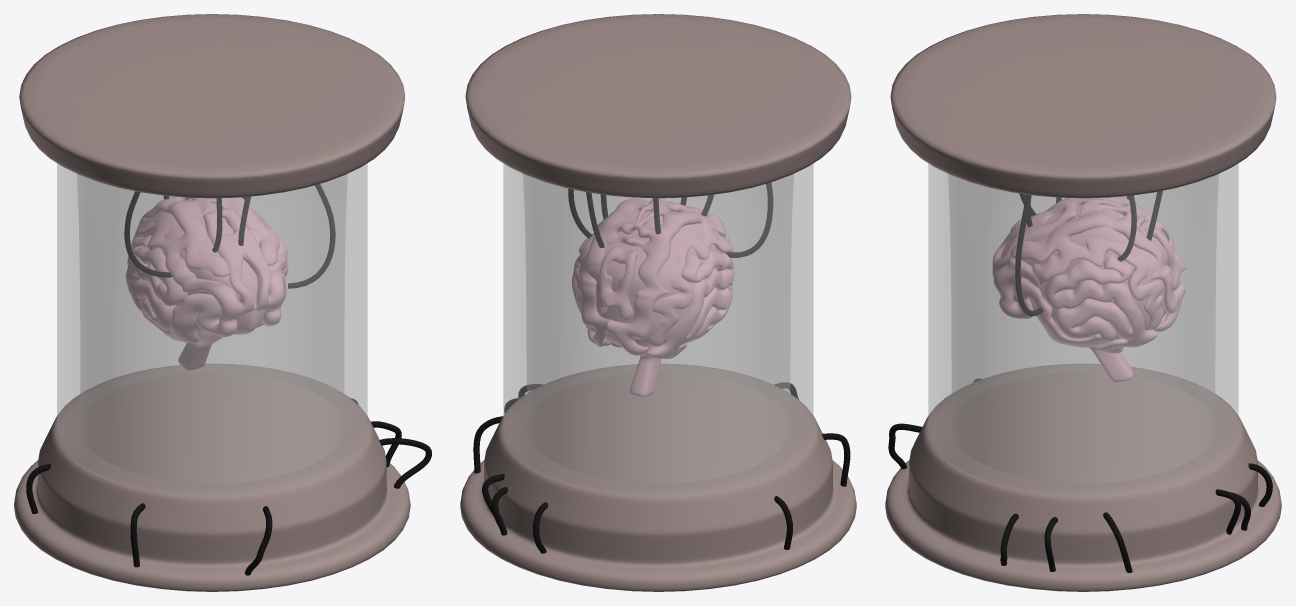
The picture shows the model from 3 angles, left to right: view 1: azimuth 30°, elevation 25°; view 2: azimuth 150°, elevation 25°; view 3: azimuth 270°, elevation 25°; orthographic projection.
Visible parts, largest first — view 1: Cylinder, Circle, Circle.001, cerveau, Cube.001, BezierCurve.001, BezierCurve; view 2: Cylinder, Circle, Circle.001, cerveau, Cube.001, BezierCurve.001, BezierCurve; view 3: Cylinder, Circle, Circle.001, cerveau, Cube.001, BezierCurve.001, BezierCurve.
Part boxes in pixels (x1,y1,x2,y2): Cylinder: (57, 163, 367, 494); Circle: (14, 364, 410, 591); Circle.001: (19, 14, 405, 198); cerveau: (125, 196, 288, 343); Cube.001: (136, 198, 263, 370); BezierCurve.001: (26, 398, 431, 575); BezierCurve: (124, 184, 335, 288); Cylinder: (503, 163, 813, 494); Circle: (460, 364, 856, 591); Circle.001: (465, 14, 851, 198); cerveau: (572, 198, 734, 359); Cube.001: (579, 209, 725, 396); BezierCurve.001: (473, 382, 850, 553); BezierCurve: (568, 182, 773, 257); Cylinder: (928, 163, 1238, 494); Circle: (885, 364, 1281, 591); Circle.001: (890, 14, 1276, 198); cerveau: (992, 196, 1186, 353); Cube.001: (999, 199, 1168, 382); BezierCurve.001: (888, 379, 1272, 572); BezierCurve: (1015, 191, 1162, 316).
Size of the model in its own units: 10.27 by 11.71 by 10.05.
